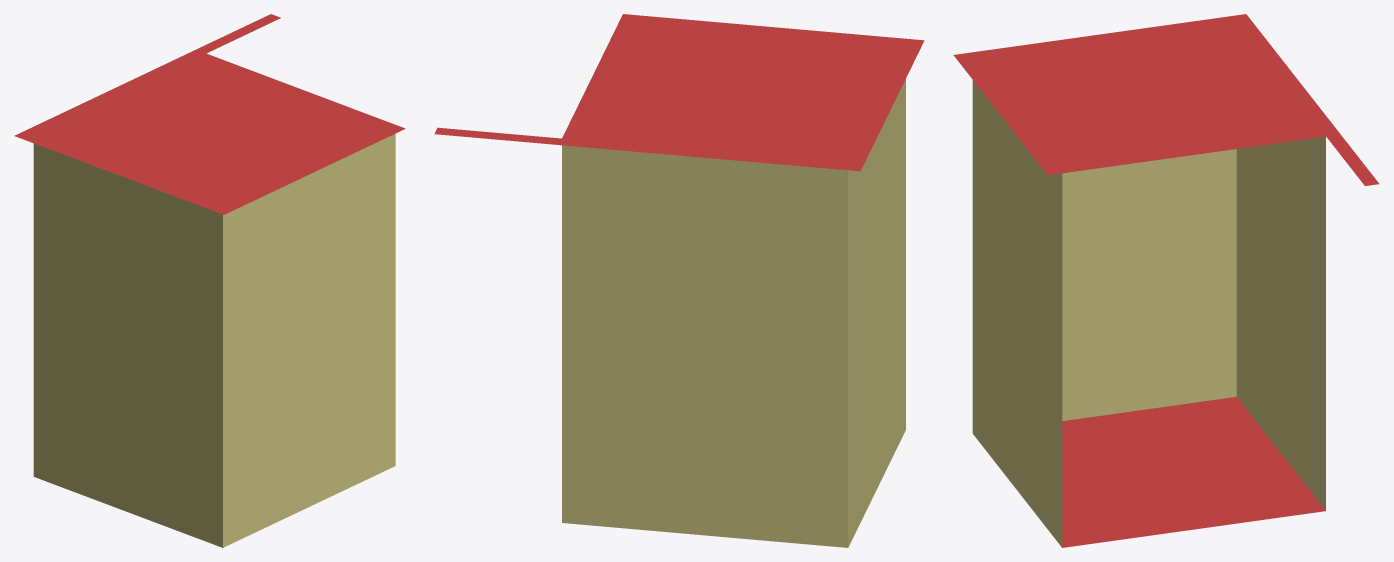
3 renders of one model, left to right at view 1: azimuth 30°, elevation 25°; view 2: azimuth 150°, elevation 25°; view 3: azimuth 270°, elevation 25°, orthographic. The views are drawn at different scales.
Bounding box in the file's own units: 6.62 × 6.93 × 6.72.
